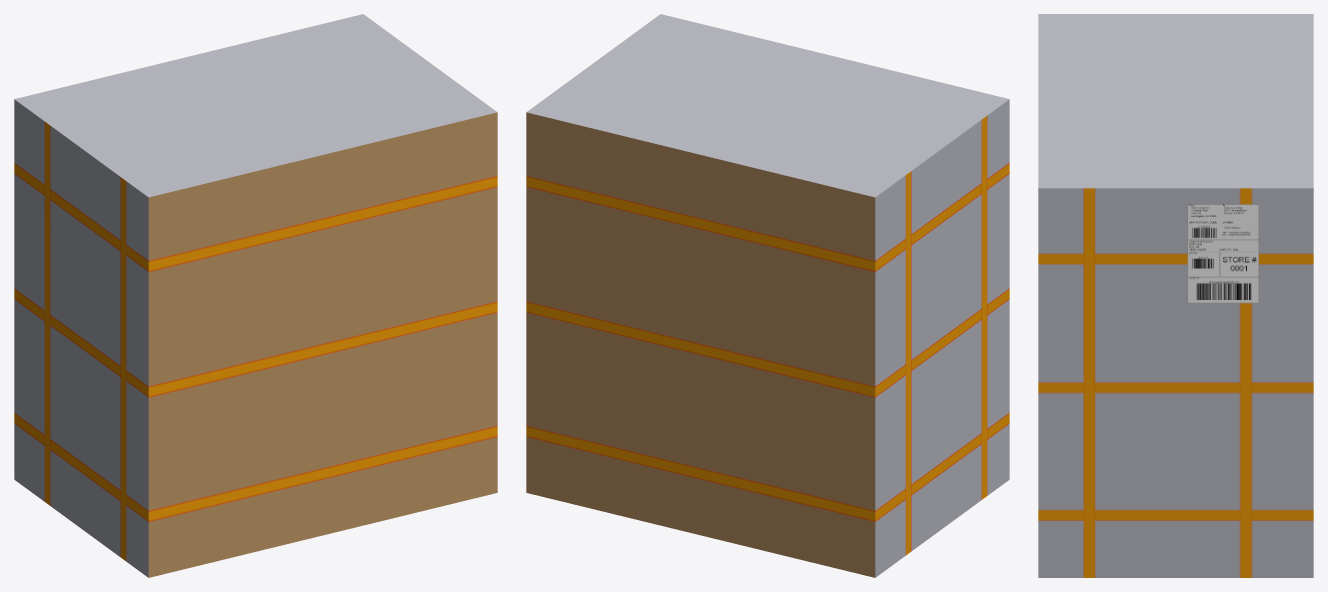
The model's file is big_box.dae.
The picture shows the model from 3 angles, left to right: view 1: azimuth 30°, elevation 25°; view 2: azimuth 150°, elevation 25°; view 3: azimuth 270°, elevation 25°; orthographic projection. The views are drawn at different scales.
Visible parts, largest first — view 1: Uline_S-3878_Box (×3); view 2: Uline_S-3878_Box (×3); view 3: Uline_S-3878_Box (×2).
Boxes of the visible parts, box(x1,y1,x2,y2) form: Uline_S-3878_Box (×3): box(14, 14, 497, 577); Uline_S-3878_Box (×3): box(526, 14, 1009, 577); Uline_S-3878_Box (×2): box(1038, 14, 1313, 577).
Size of the model in its own units: 120 by 80 by 125.
